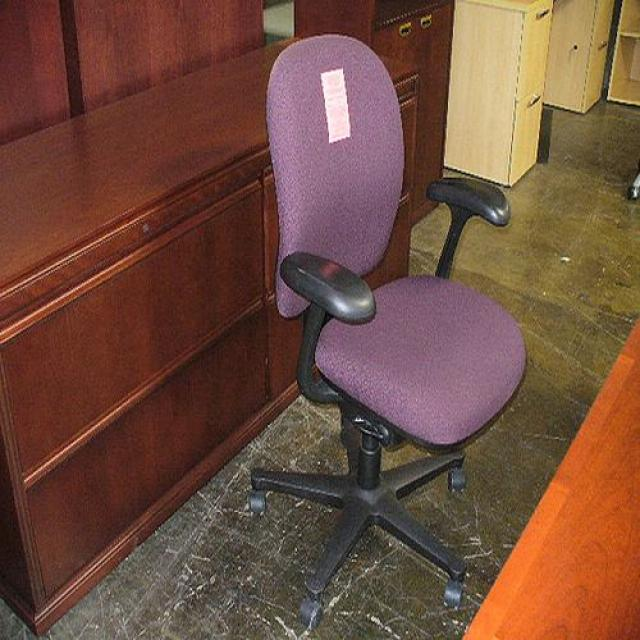swivelchair: (250, 36, 529, 634)
